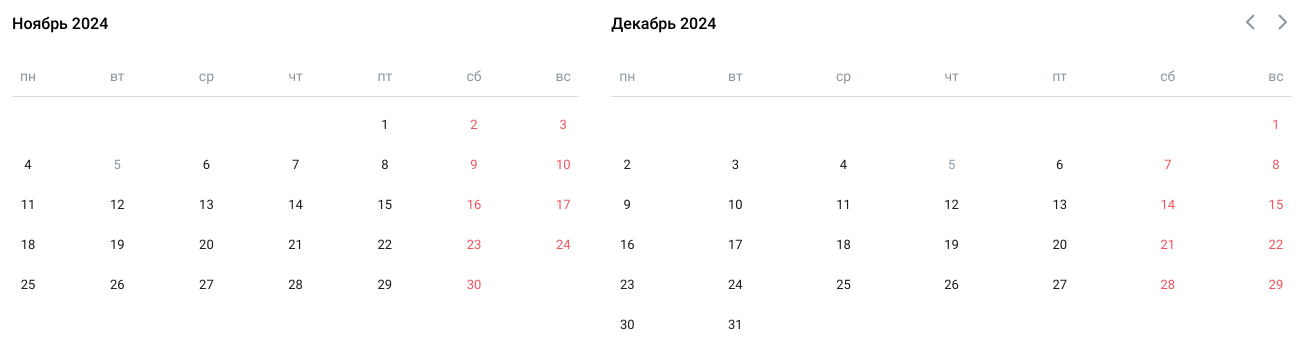
Test: Компонент CalendarMonthRange › При клике на неактивную ячейку первого месяца появляется попап
This screenshot has width=1304, height=347.
Step 1. Click the element showing "5" below "Ноябрь 2024" → click(117, 164), box [114,157,121,172]
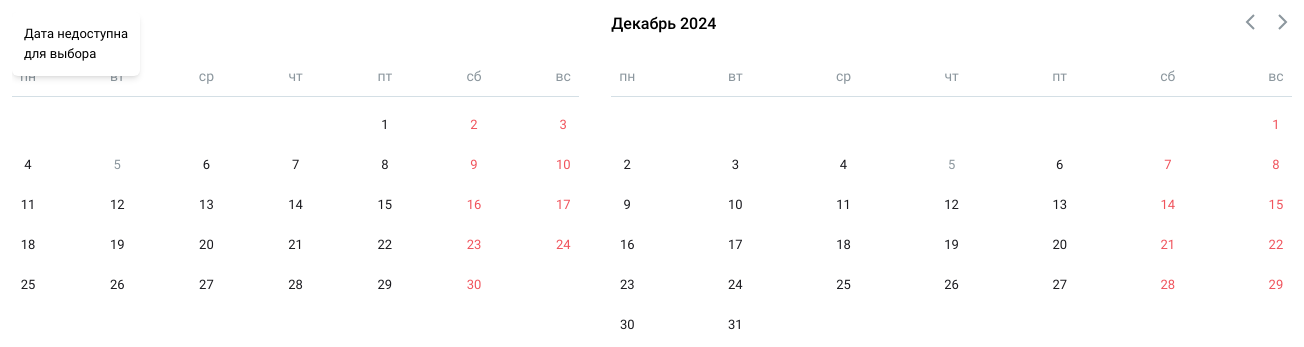
Result: the text "Дата недоступна для выбора" is shown at [24,26,128,61]
